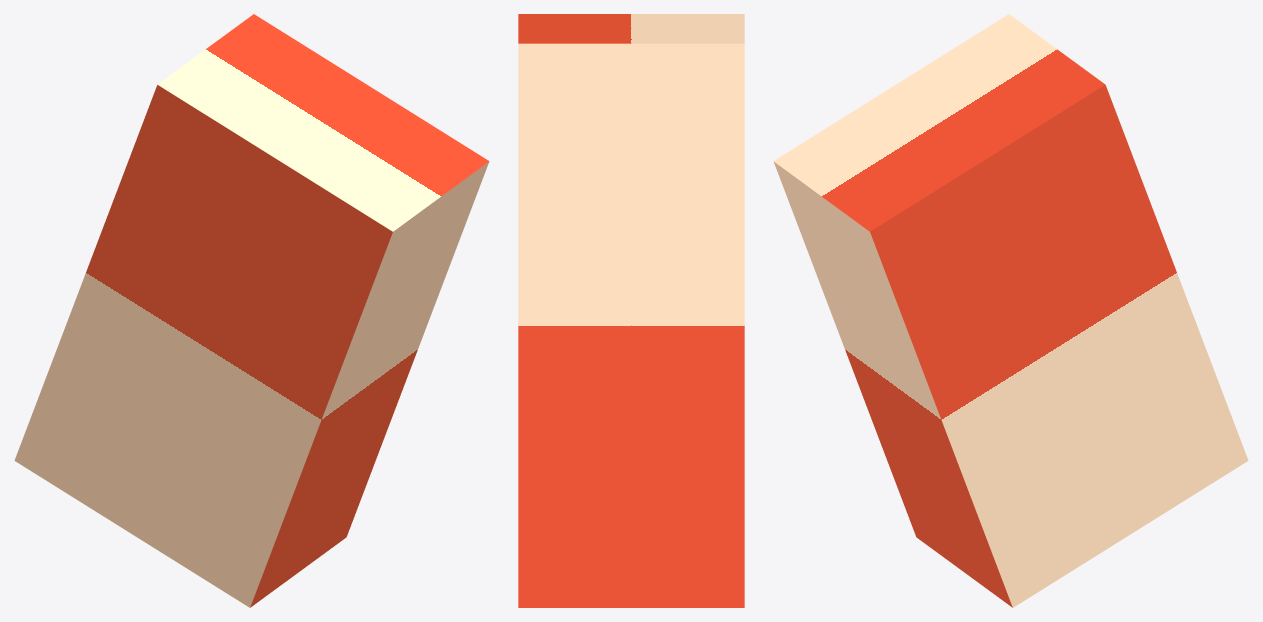
File: blender_cube.glb
3 renders of one model, left to right at view 1: azimuth 30°, elevation 25°; view 2: azimuth 150°, elevation 25°; view 3: azimuth 270°, elevation 25°, orthographic. The views are drawn at different scales.
Parts seen in each view (by area): view 1: Cube; view 2: Cube; view 3: Cube.
Boxes of the visible parts, <box> form: Cube: <box>14,14,489,607</box>; Cube: <box>518,14,744,607</box>; Cube: <box>773,14,1248,607</box>.
Size of the model in its own units: 0.9992 by 1.43 by 1.23.
Materials: 1 (1 with a texture image).
